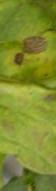Tomato Early blight leaf: (0, 0, 56, 183)
